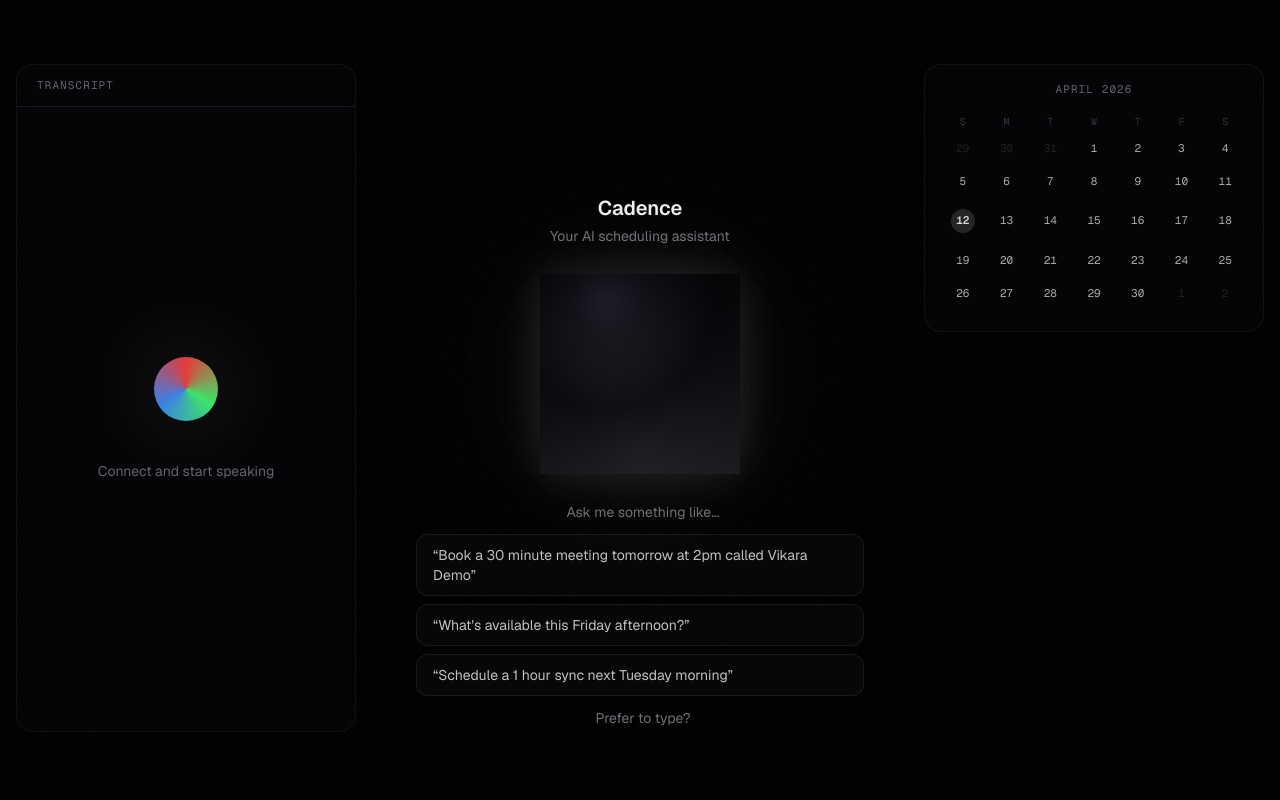
Test: VoiceAgent › clicking "Prefer to type?" reveals TextInput
Click the button "Prefer to type?" at (640, 718), box [589, 704, 691, 732]
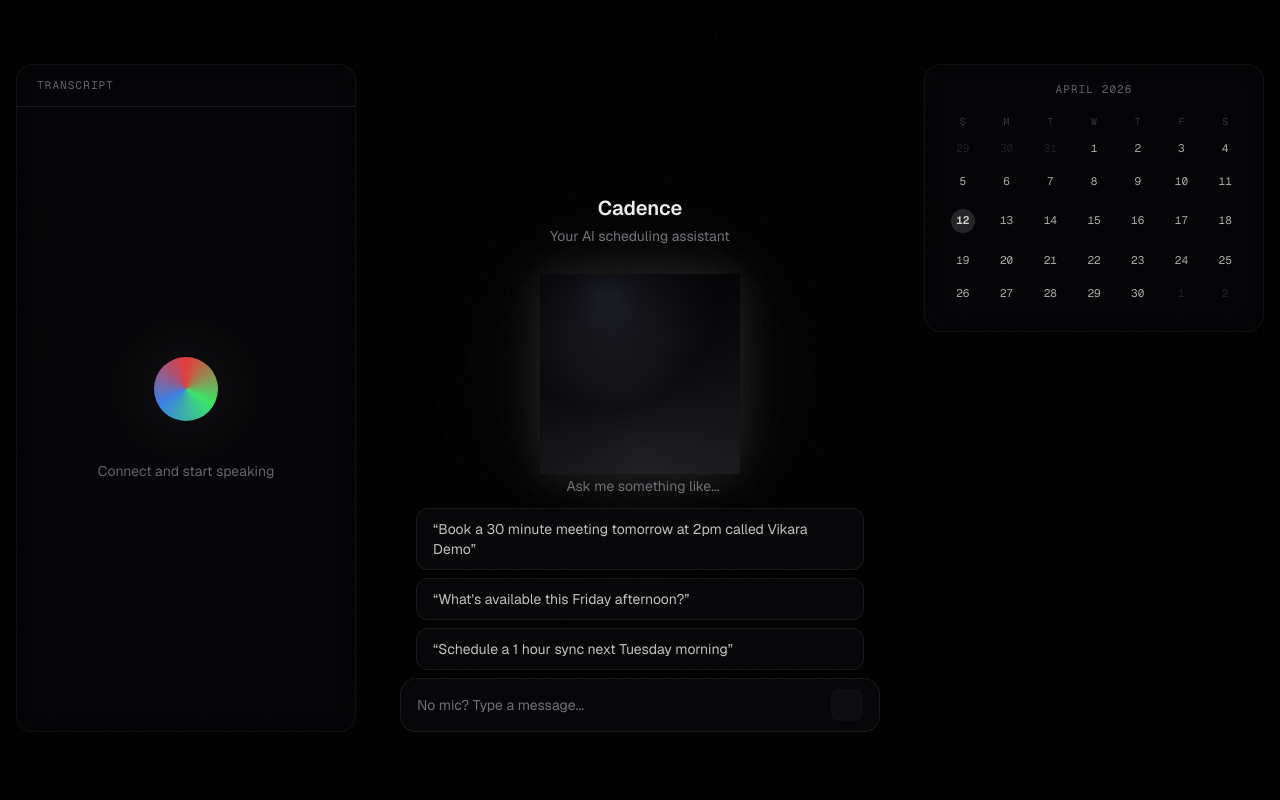
Expected: the field with placeholder "No mic? Type a message..." is shown, [417, 695, 823, 715]
